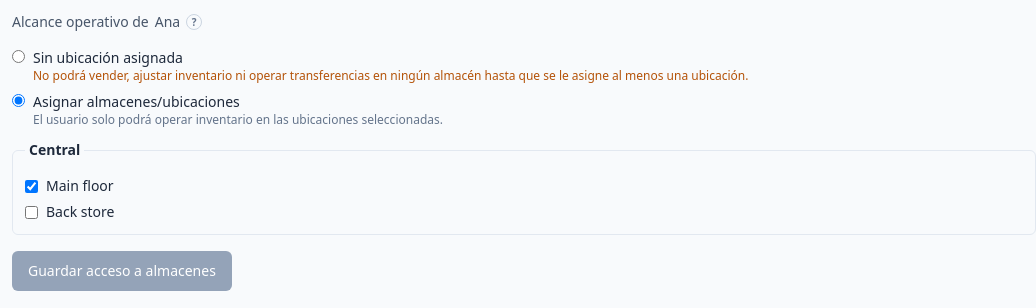
Test: LocationAccess › PUTs an empty array when switched to "Sin ubicación asignada"
The width and height of the screenshot is (1036, 308).
Click the radio button labelled "Sin ubicación asignada" at [18, 56], box [12,50,25,63]
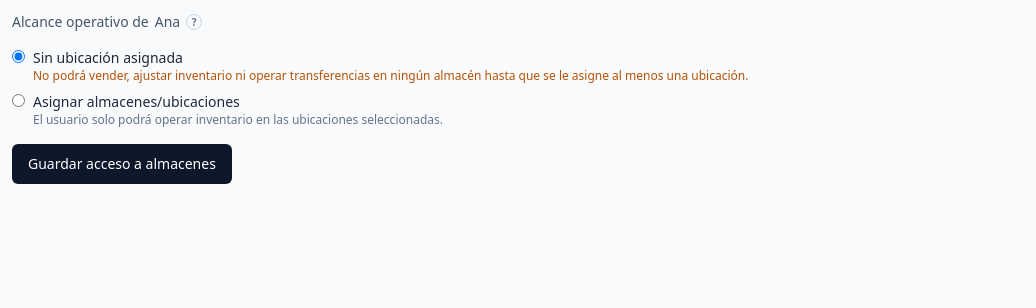
Click the button "Guardar acceso a almacenes" at [122, 164], box [12,144,232,184]
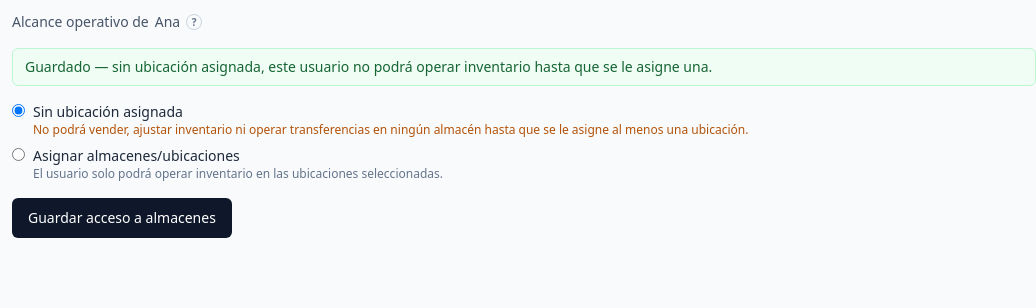
Result: the message shows "no podrá operar inventario" at [25,57,712,76]
